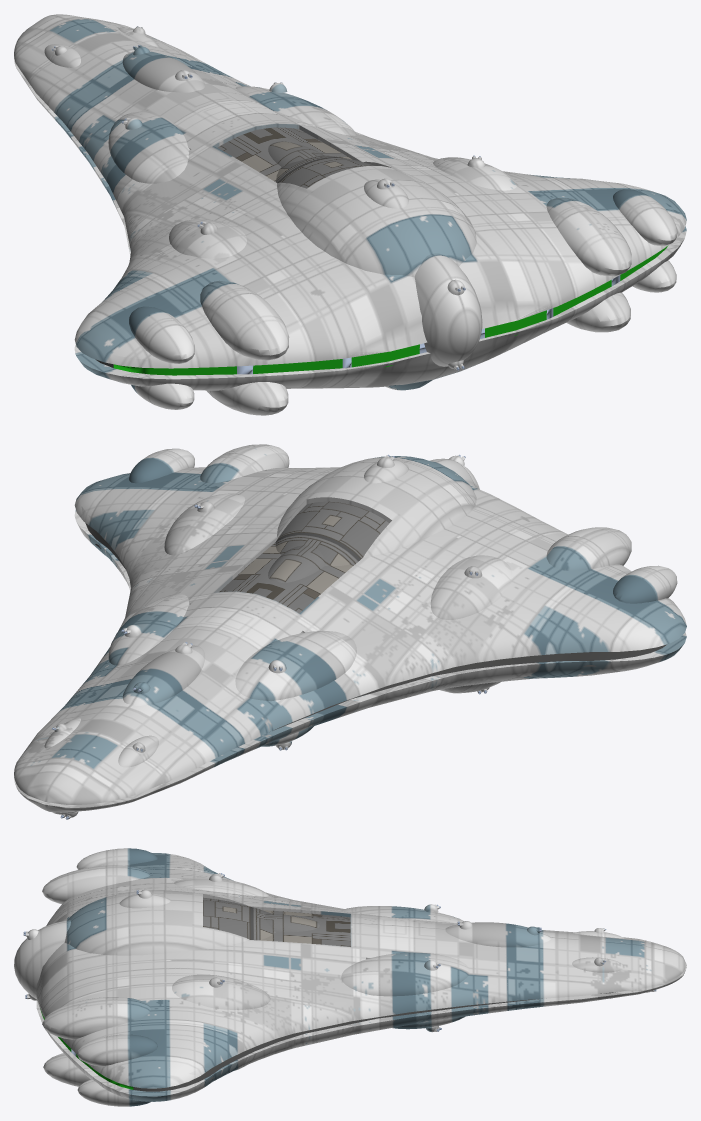
File: paradigm.glb
The picture shows the model from 3 angles, top to bottom: view 1: azimuth 30°, elevation 25°; view 2: azimuth 150°, elevation 25°; view 3: azimuth 270°, elevation 25°; orthographic projection. The views are drawn at different scales.
Parts seen in each view (by area): view 1: paradigm_raw; view 2: paradigm_raw; view 3: paradigm_raw.
Part boxes in pixels (x1,y1,x2,y2): paradigm_raw: (14,14,686,415); paradigm_raw: (14,444,686,819); paradigm_raw: (14,848,686,1106).
Size of the model in its own units: 4724 by 1503 by 5805.
6 materials, 4 textured.
